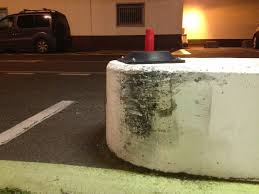obstacle: (99, 25, 259, 182)
